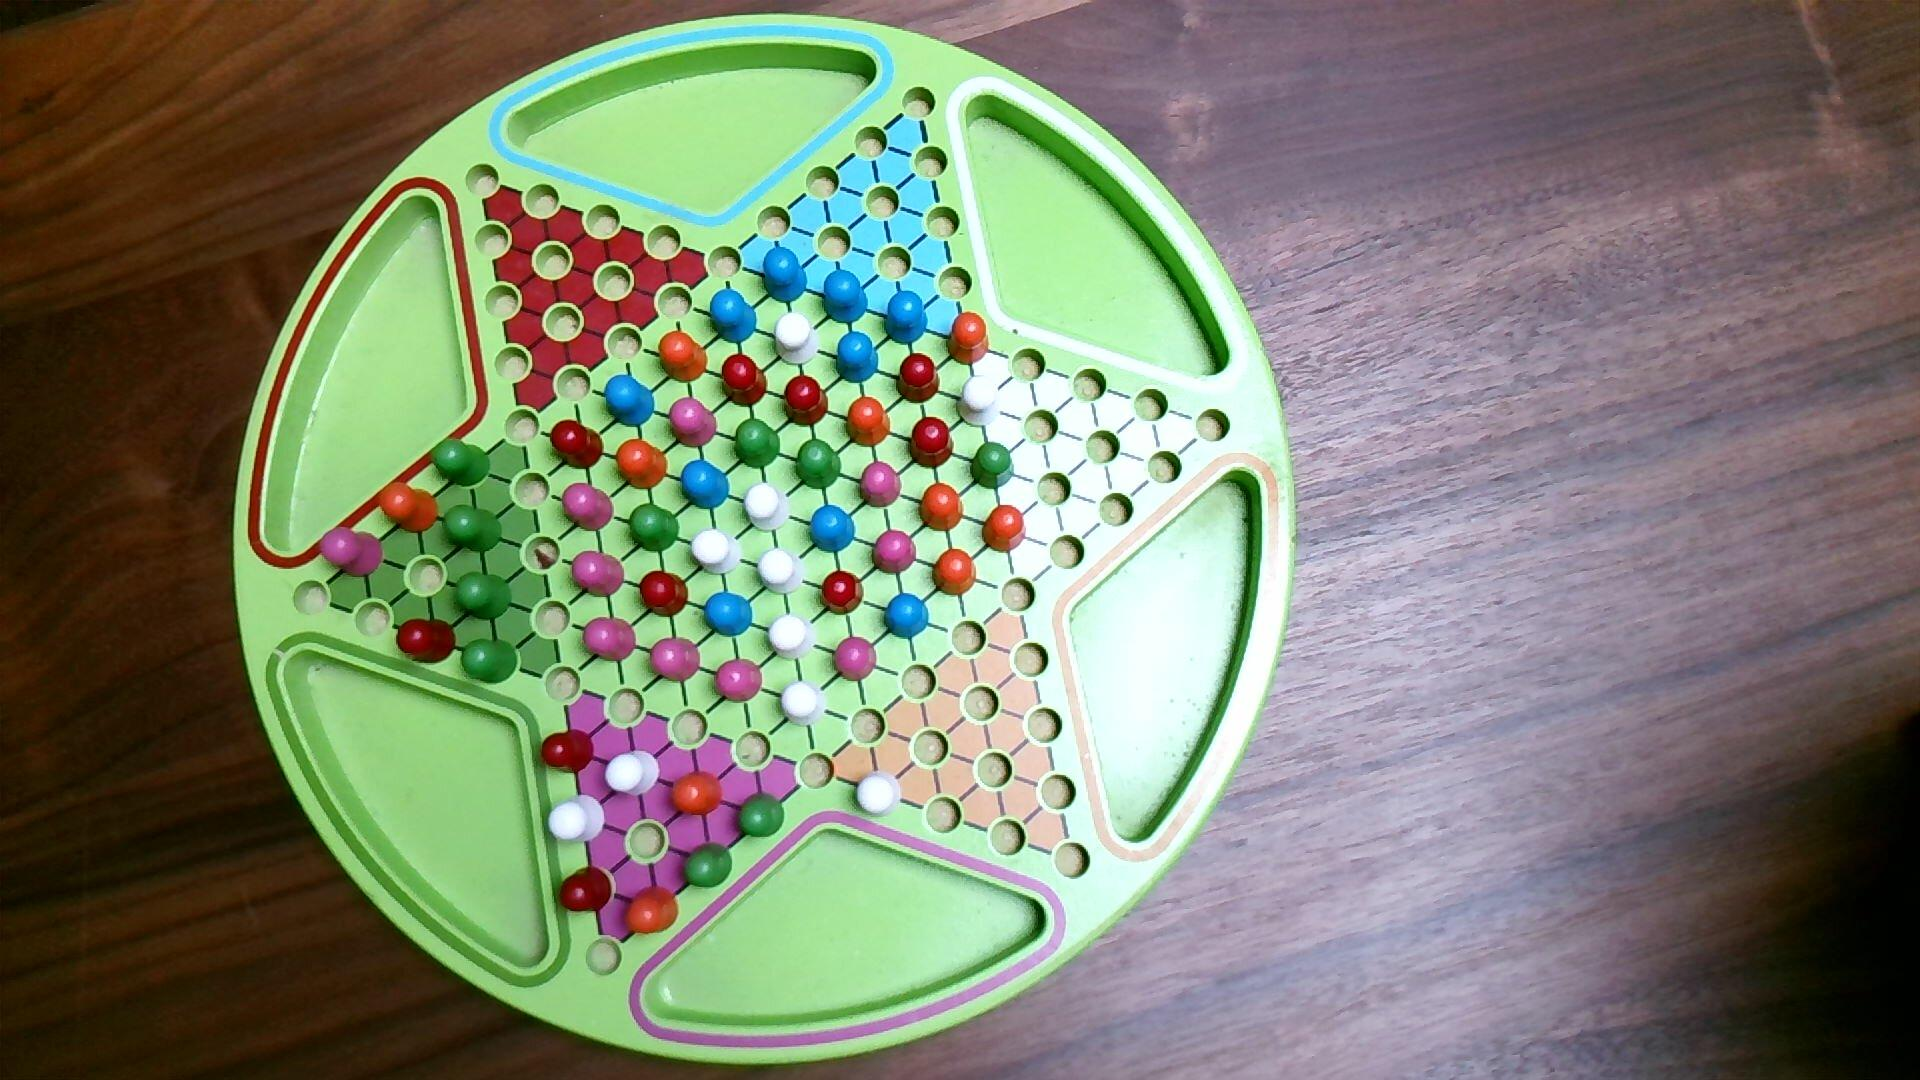B: (603, 373, 659, 431), (761, 244, 811, 306), (708, 287, 760, 347), (679, 458, 733, 513), (822, 266, 872, 326), (882, 289, 931, 347), (807, 502, 858, 556), (835, 328, 881, 386), (703, 589, 756, 640), (882, 589, 931, 644)
G: (429, 434, 495, 491), (452, 568, 516, 624), (442, 502, 505, 558), (458, 636, 522, 688), (626, 500, 682, 556), (678, 839, 735, 891), (732, 414, 783, 472), (967, 436, 1017, 493), (736, 789, 787, 843), (793, 438, 844, 492)
O: (375, 477, 442, 537), (655, 327, 711, 386), (624, 884, 682, 939), (666, 767, 727, 820), (615, 438, 671, 493), (843, 393, 894, 450), (945, 309, 992, 369), (928, 546, 980, 600), (916, 480, 967, 535), (980, 502, 1030, 556)
R: (556, 862, 617, 918), (396, 616, 458, 667), (549, 418, 605, 472), (781, 371, 832, 430), (719, 352, 770, 410), (906, 415, 957, 472), (538, 727, 596, 777), (637, 568, 691, 620), (894, 351, 943, 406), (819, 568, 866, 618)
R2: (316, 524, 386, 584), (570, 549, 628, 601), (560, 481, 616, 535), (580, 615, 640, 665), (667, 396, 720, 451), (647, 636, 703, 686), (712, 657, 766, 705), (857, 458, 905, 512), (872, 526, 919, 578), (831, 636, 880, 684)
W: (547, 791, 609, 847), (603, 746, 665, 800), (688, 525, 746, 580), (742, 477, 795, 534), (765, 611, 819, 665), (771, 311, 822, 368), (853, 767, 905, 822), (775, 678, 829, 729), (754, 546, 808, 597), (956, 372, 1002, 430)
